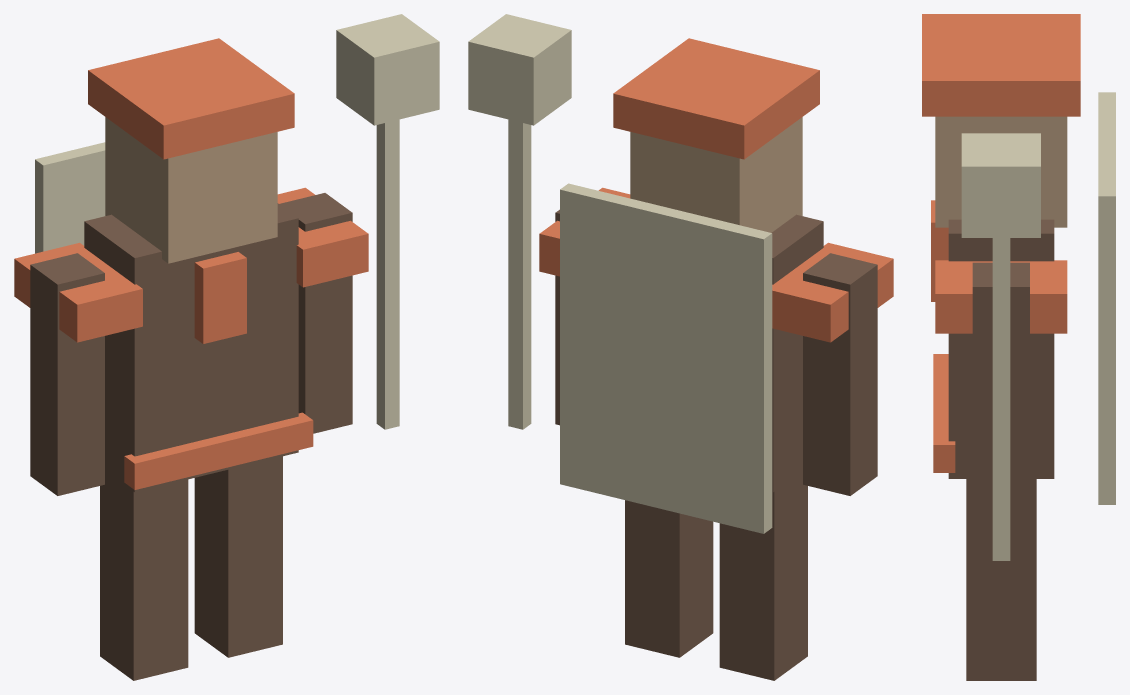
The model's file is 11_quill_emberkin_scout_from_mirage.glb.
3 renders of one model, left to right at view 1: azimuth 30°, elevation 25°; view 2: azimuth 150°, elevation 25°; view 3: azimuth 270°, elevation 25°, orthographic. The views are drawn at different scales.
Parts seen in each view (by area): view 1: Quill Emberkin, Scout from Mirage; view 2: Quill Emberkin, Scout from Mirage; view 3: Quill Emberkin, Scout from Mirage.
Boxes of the visible parts, x1,y1,x2,y2 form: Quill Emberkin, Scout from Mirage: (14,14,439,680); Quill Emberkin, Scout from Mirage: (468,14,893,680); Quill Emberkin, Scout from Mirage: (922,14,1115,680).
Size of the model in its own units: 1 by 1.45 by 0.4267.
